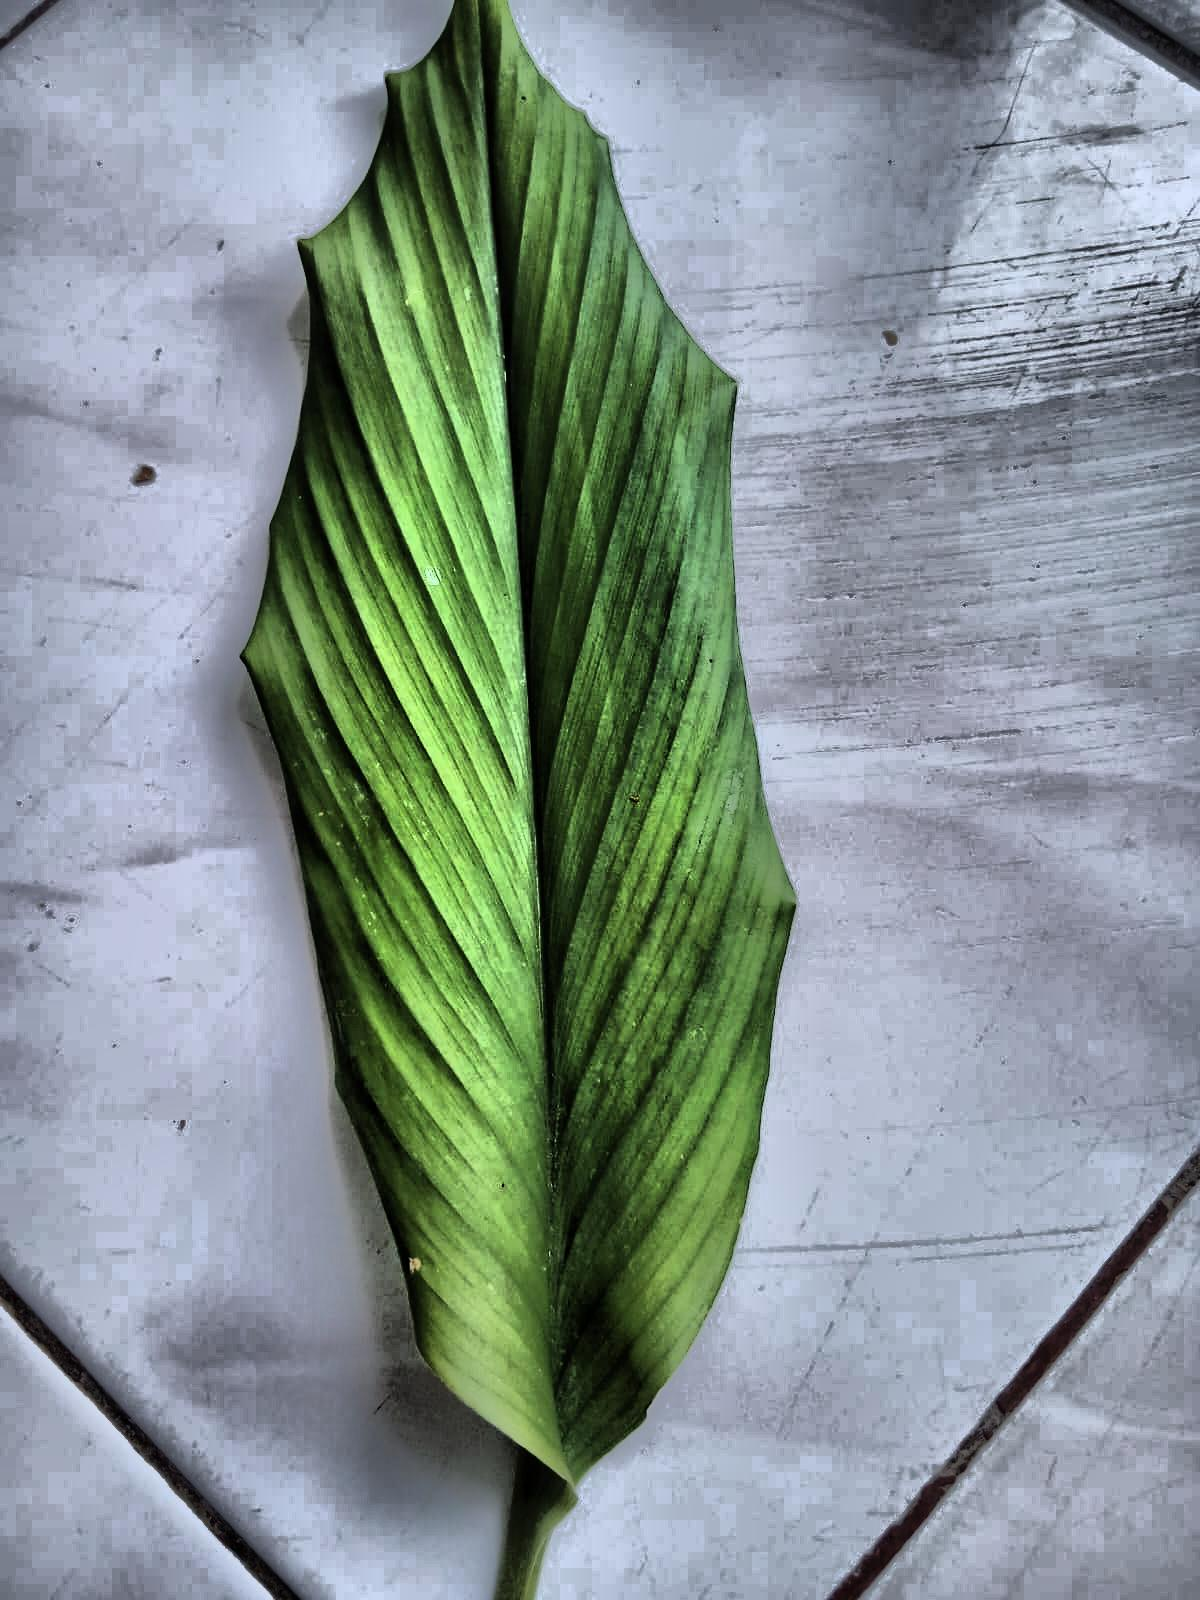daun kunyit: (243, 0, 794, 1599)
